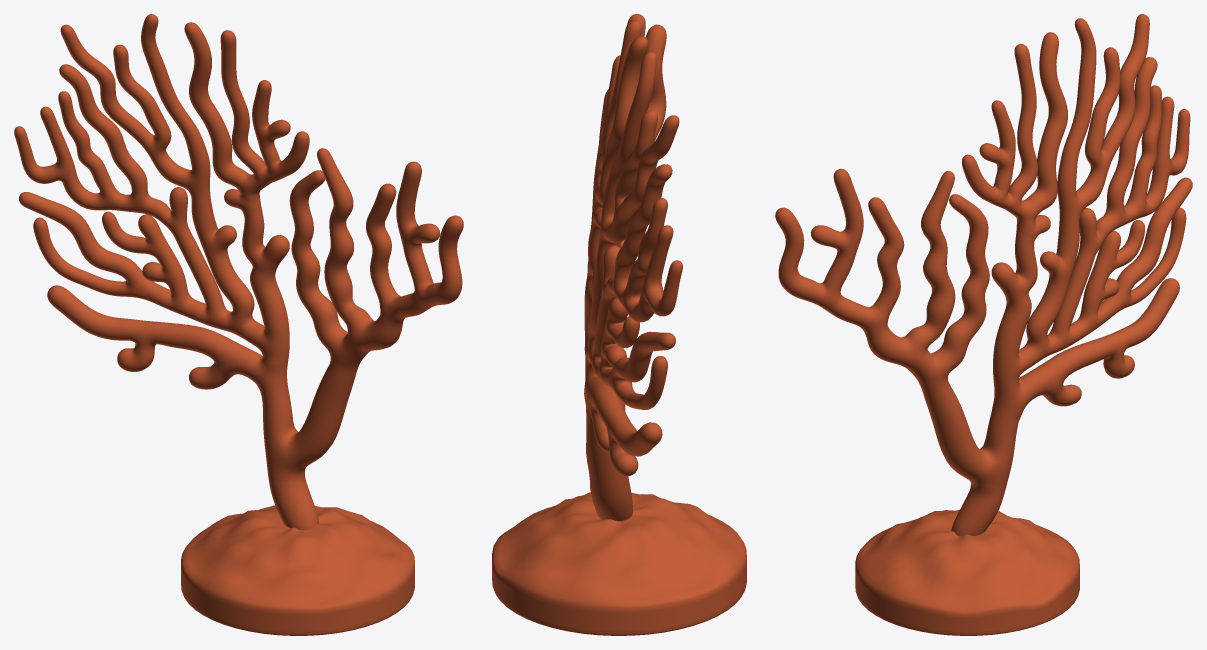
File: coralgg.glb
3 renders of one model, left to right at view 1: azimuth 30°, elevation 25°; view 2: azimuth 150°, elevation 25°; view 3: azimuth 270°, elevation 25°, orthographic. The views are drawn at different scales.
Parts seen in each view (by area): view 1: gg; view 2: gg; view 3: gg.
Part boxes in pixels (x1,y1,x2,y2): gg: (14,14,463,635); gg: (492,14,746,635); gg: (775,14,1192,635).
Bounding box in the file's own units: 2.65 × 5.14 × 3.67.
